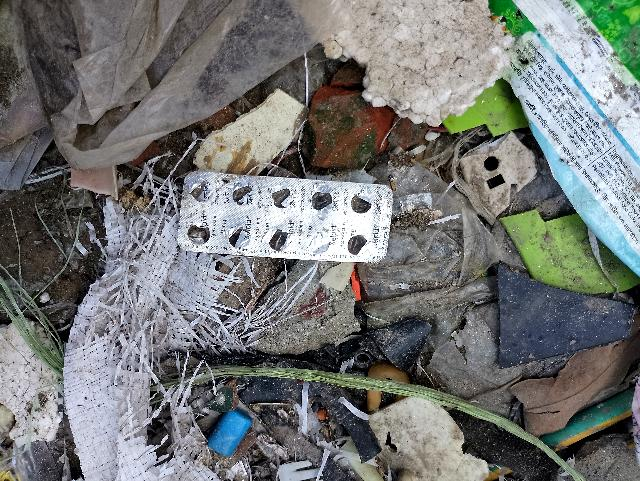medicine: (179, 161, 398, 267)
